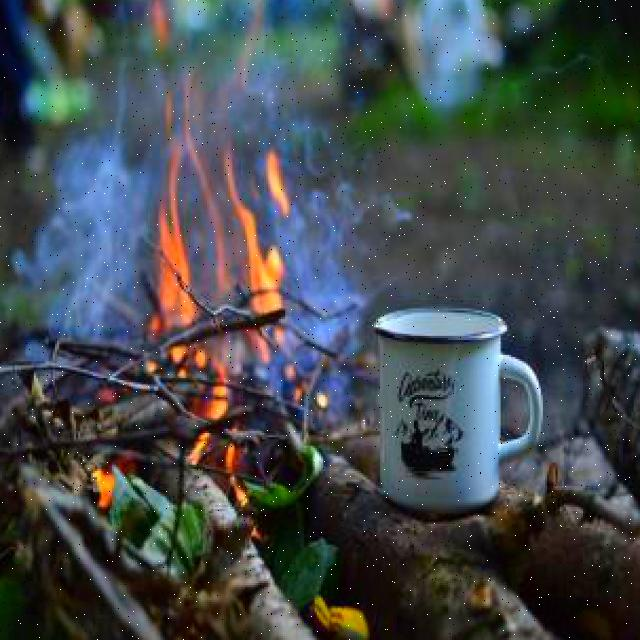fire: (154, 161, 287, 378)
smoke: (4, 8, 154, 384), (279, 102, 410, 404)
